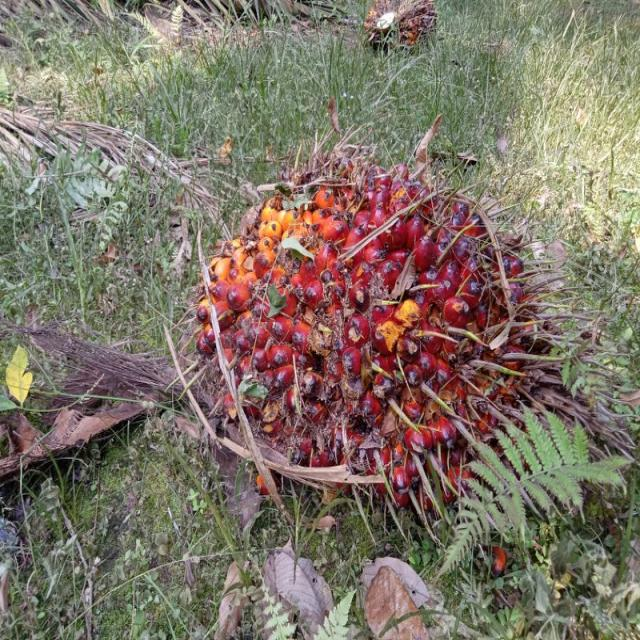fraksi 3: (141, 118, 595, 566)
